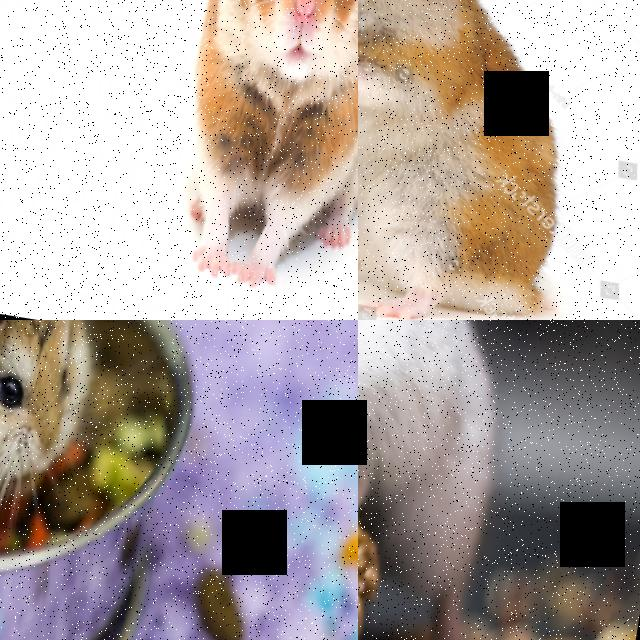hamster: (358, 0, 619, 320), (159, 0, 358, 303), (358, 320, 538, 523), (0, 320, 118, 532)
